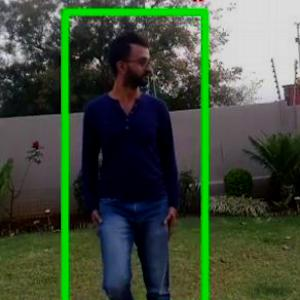follow: (75, 26, 189, 298)
